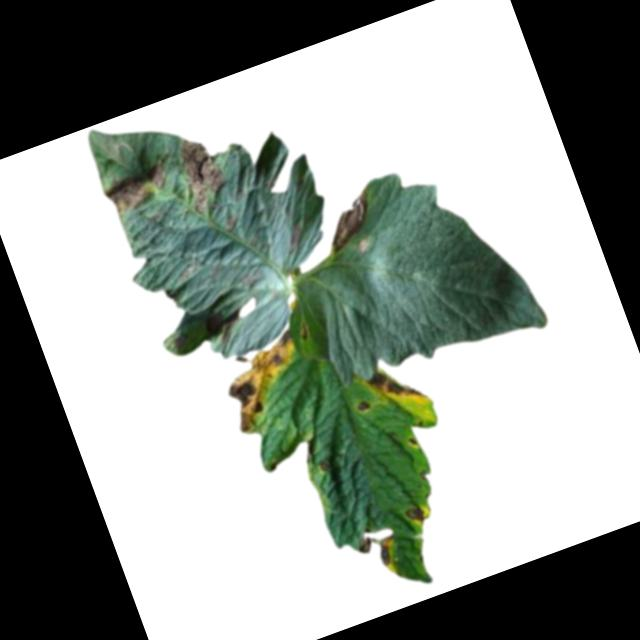Early_blight: (214, 325, 327, 435), (170, 131, 235, 219), (99, 157, 184, 223), (314, 184, 387, 258), (364, 356, 432, 415), (353, 529, 399, 576), (402, 501, 431, 530), (356, 398, 375, 418)
